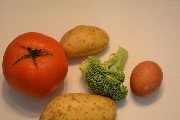broccoli: (79, 45, 129, 100)
egg: (131, 60, 163, 98)
potato: (38, 93, 117, 120), (59, 24, 111, 57)
tomato: (3, 32, 70, 98)
